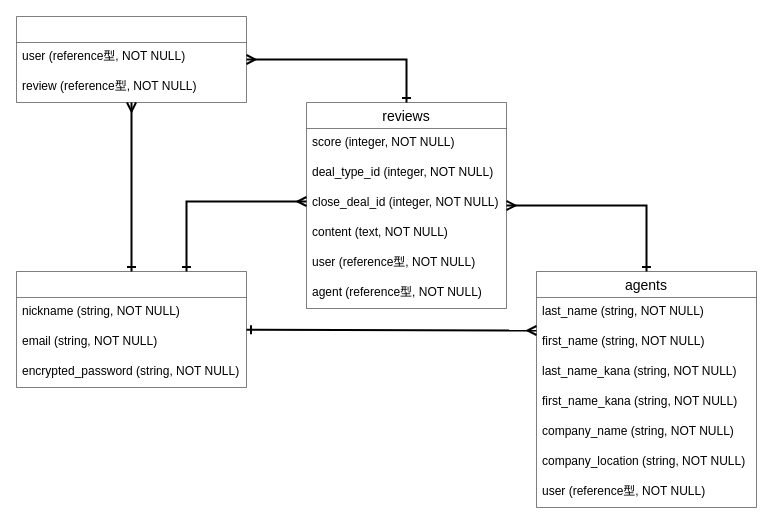
This 773x524 diagram has some shape labels left out. Here are the shapes that lost their labels. From the top down, the box of each, then its label:
(16, 16, 246, 102): likes
(16, 270, 246, 388): users
